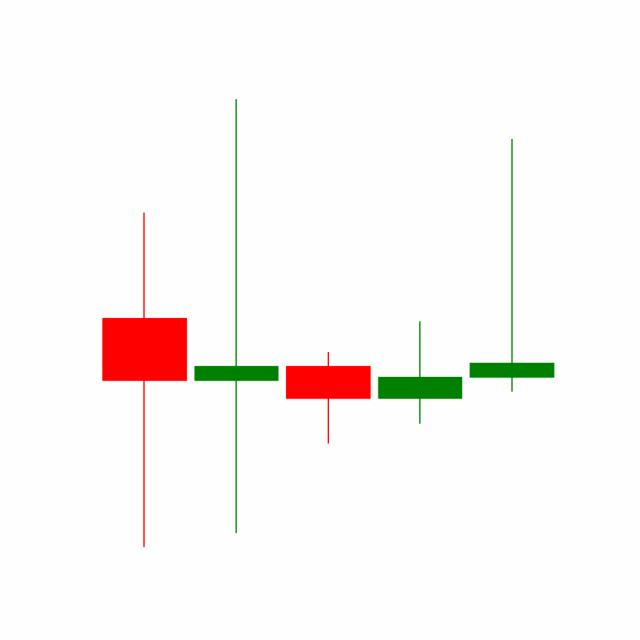Gravestone Doji: (464, 135, 558, 394)
